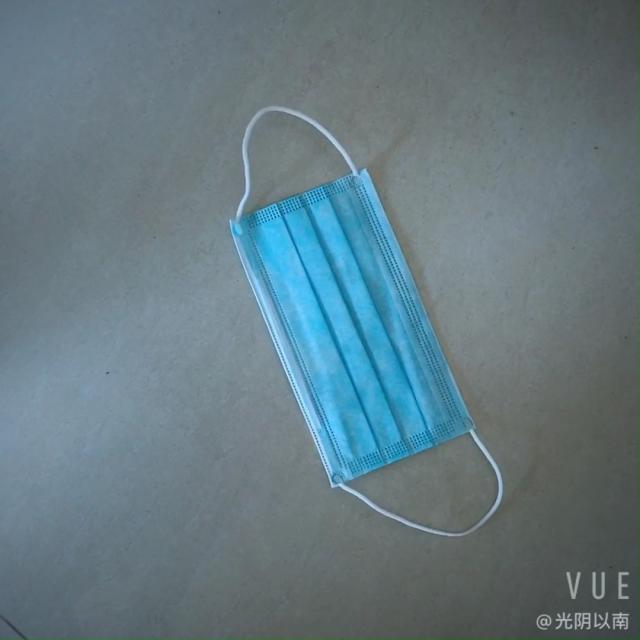non-organic waste: (224, 176, 474, 512)
